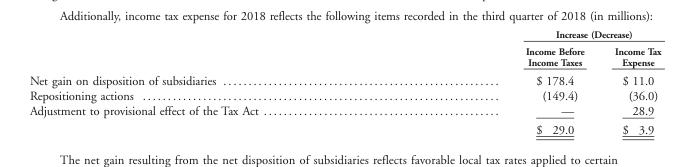table: (28, 28, 660, 136)
table column: (28, 28, 391, 136), (391, 28, 598, 136), (598, 28, 660, 136)
table column header: (28, 28, 660, 70)
table row: (28, 42, 660, 70), (28, 70, 660, 87), (28, 102, 660, 119), (28, 119, 660, 136), (28, 87, 660, 102), (28, 28, 660, 42)
table spanning cell: (391, 28, 660, 42)
